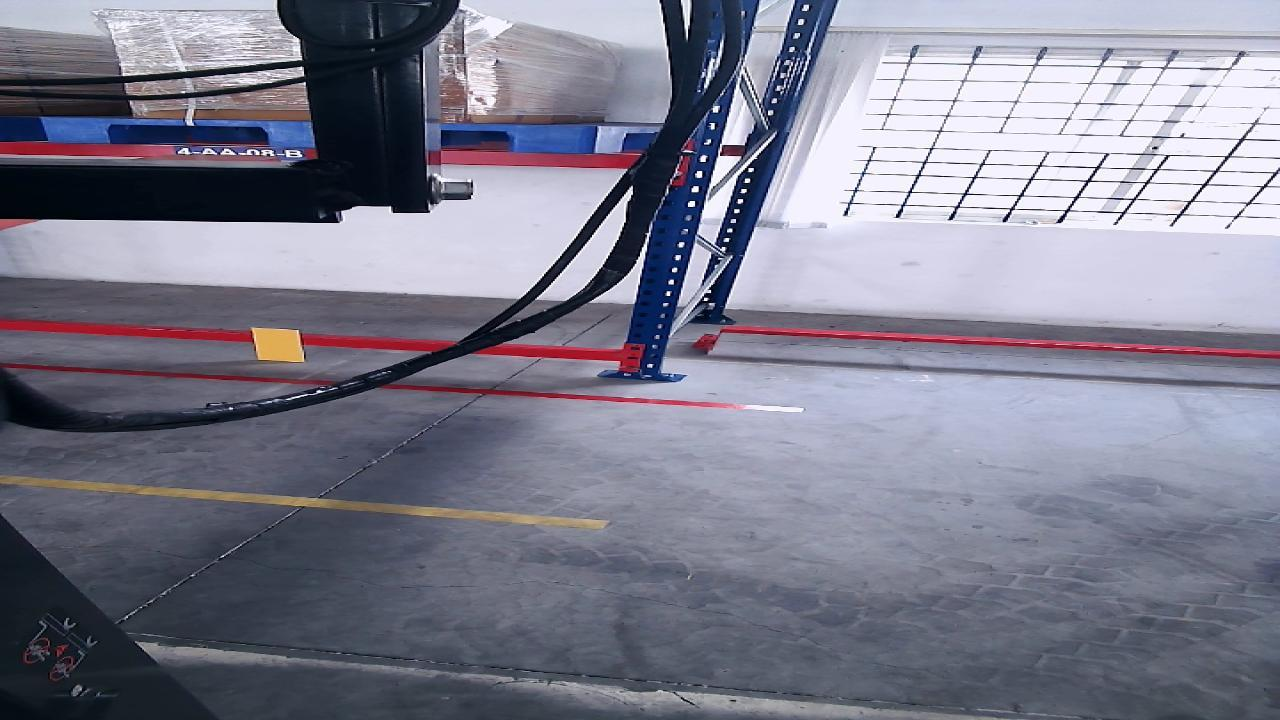h_rack: (0, 320, 620, 359), (0, 142, 636, 170)
orange_strip: (254, 328, 303, 362)
red_line: (3, 361, 799, 411)
small_pallet: (39, 117, 593, 152)
yellow_line: (1, 471, 608, 532)
